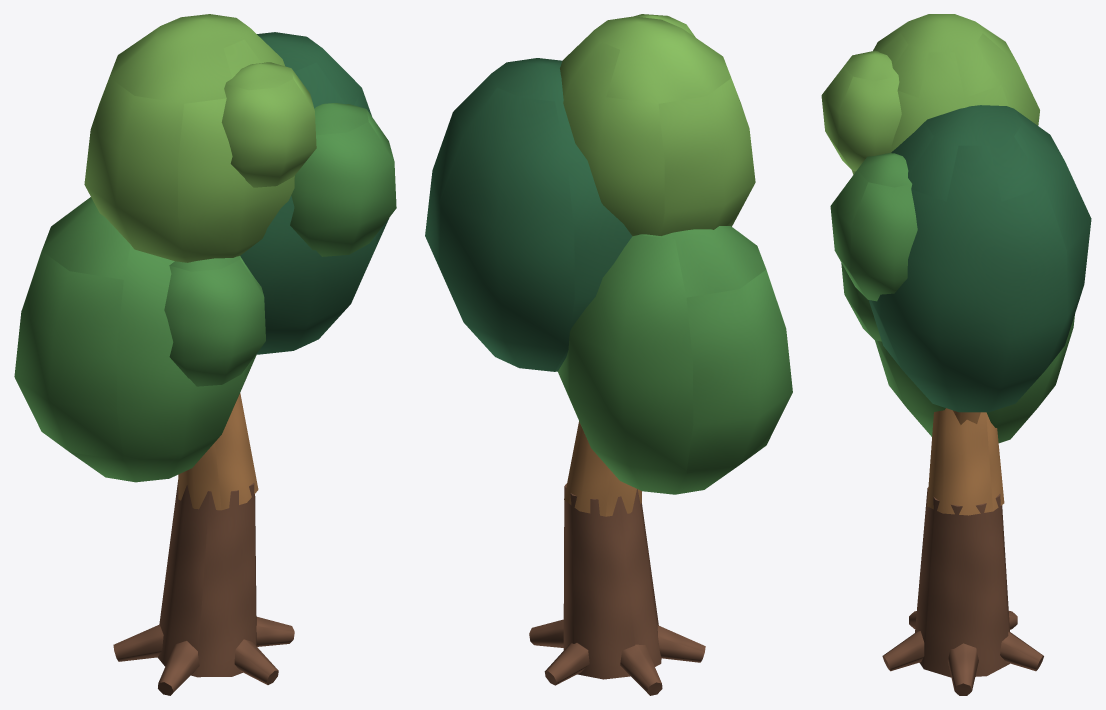
File: tree-02.glb
3 views of the same model, side by side, from view 1: azimuth 30°, elevation 25°; view 2: azimuth 150°, elevation 25°; view 3: azimuth 270°, elevation 25° (orthographic). The views are drawn at different scales.
Parts seen in each view (by area): view 1: tree-02-mesh; view 2: tree-02-mesh; view 3: tree-02-mesh.
Part boxes in pixels (x1,y1,x2,y2): tree-02-mesh: (14,14,396,695); tree-02-mesh: (425,14,792,695); tree-02-mesh: (821,14,1091,695).
Size of the model in its own units: 2.12 by 3.87 by 1.51.
Materials: 1 (1 with a texture image).
